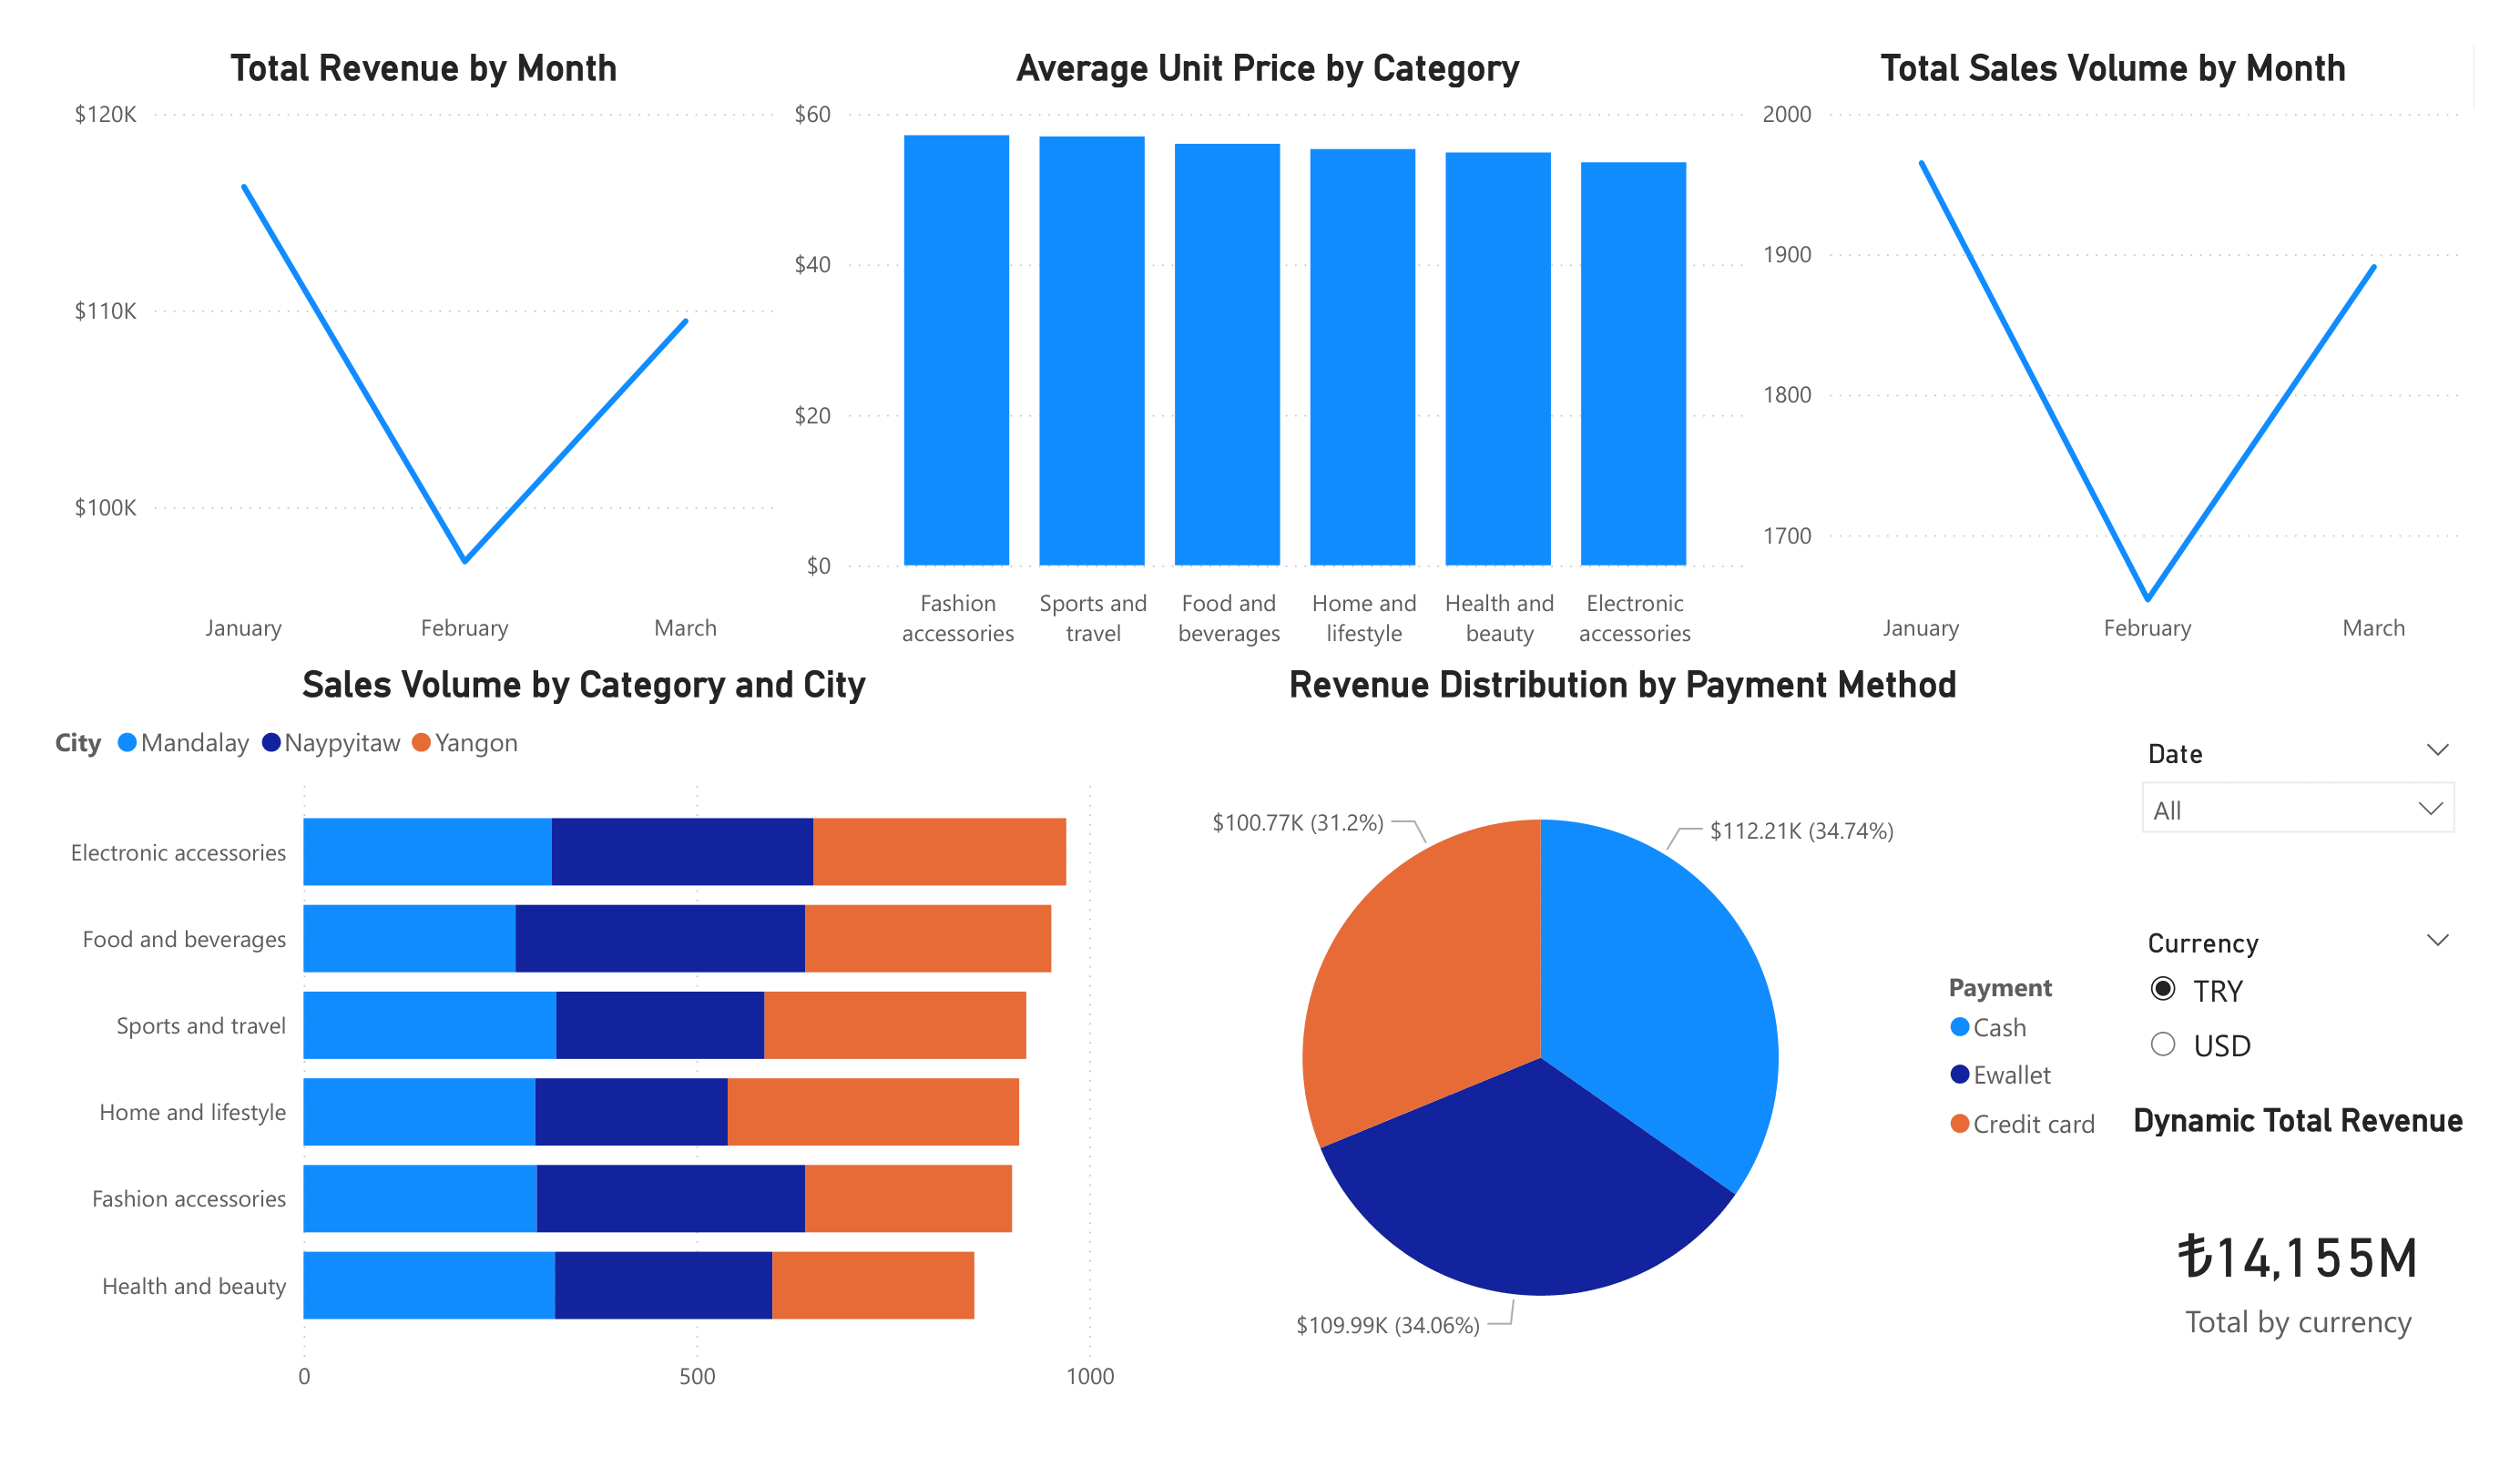

The dashboard page shown, as its layout file describes it:
{"tool":"powerbi","page":{"name":"Page 1","canvas":[1280,720],"ordinal":0},"visuals":[{"type":"lineChart","title":"Total Revenue by Month","fields":{"Category":["supermarket_sales - Sheet1.Date.Variation.Date Hierarchy.Month"],"Y":["Sum(supermarket_sales - Sheet1.Total)"]},"box":[9.7,0,379.3,324.9],"z":0},{"type":"clusteredColumnChart","title":"Average Unit Price by Category","fields":{"Category":["supermarket_sales - Sheet1.Product line"],"Y":["Avg(supermarket_sales - Sheet1.Unit price)"]},"box":[389.1,0,510.6,324.9],"z":1000},{"type":"lineChart","title":"Total Sales Volume by Month","fields":{"Category":["supermarket_sales - Sheet1.Date.Variation.Date Hierarchy.Month","supermarket_sales - Sheet1.Date.Variation.Date Hierarchy.Day"],"Y":["Sum(supermarket_sales - Sheet1.Quantity)"]},"box":[899.7,0,380.3,324.9],"z":2000},{"type":"slicer","fields":{"Values":["supermarket_sales - Sheet1.Date"]},"box":[1095.2,359.9,184.8,100.2],"z":3000},{"type":"barChart","title":"Sales Volume by Category and City","fields":{"Category":["supermarket_sales - Sheet1.Product line"],"Y":["Sum(supermarket_sales - Sheet1.Quantity)"],"Series":["supermarket_sales - Sheet1.City"]},"box":[0,324.9,568,394.9],"z":4000},{"type":"pieChart","title":"Revenue Distribution by Payment Method","fields":{"Category":["supermarket_sales - Sheet1.Payment"],"Y":["Sum(supermarket_sales - Sheet1.Total)"]},"box":[568,324.9,527.2,394.9],"z":5000},{"type":"slicer","fields":{"Values":["Currency.Currency"]},"box":[1095.2,460.1,184.8,96.3],"z":6000},{"type":"card","title":"Dynamic Total Revenue","fields":{"Values":["supermarket_sales - Sheet1.Total by currency"]},"box":[1095.2,556.4,184.8,163.4],"z":7000}]}

Visuals, with their boxes on the page's 1280x720 design canvas (x1, y1, x2, y2). These are canvas units, not pixel positions in the 2520x1457 screenshot, which may show the page scaled, cropped or inside an application window:
"Total Revenue by Month" lineChart: locate(10, 0, 389, 325)
"Average Unit Price by Category" clusteredColumnChart: locate(389, 0, 900, 325)
"Total Sales Volume by Month" lineChart: locate(900, 0, 1280, 325)
slicer - supermarket_sales - Sheet1.Date: locate(1095, 360, 1280, 460)
"Sales Volume by Category and City" barChart: locate(0, 325, 568, 720)
"Revenue Distribution by Payment Method" pieChart: locate(568, 325, 1095, 720)
slicer - Currency.Currency: locate(1095, 460, 1280, 556)
"Dynamic Total Revenue" card: locate(1095, 556, 1280, 720)
